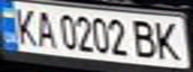0: (54, 10, 78, 52), (90, 15, 109, 55)
2: (106, 16, 130, 57), (72, 12, 93, 53)
A: (30, 7, 57, 48)
B: (130, 17, 160, 61)
K: (151, 18, 187, 62), (9, 4, 42, 46)
